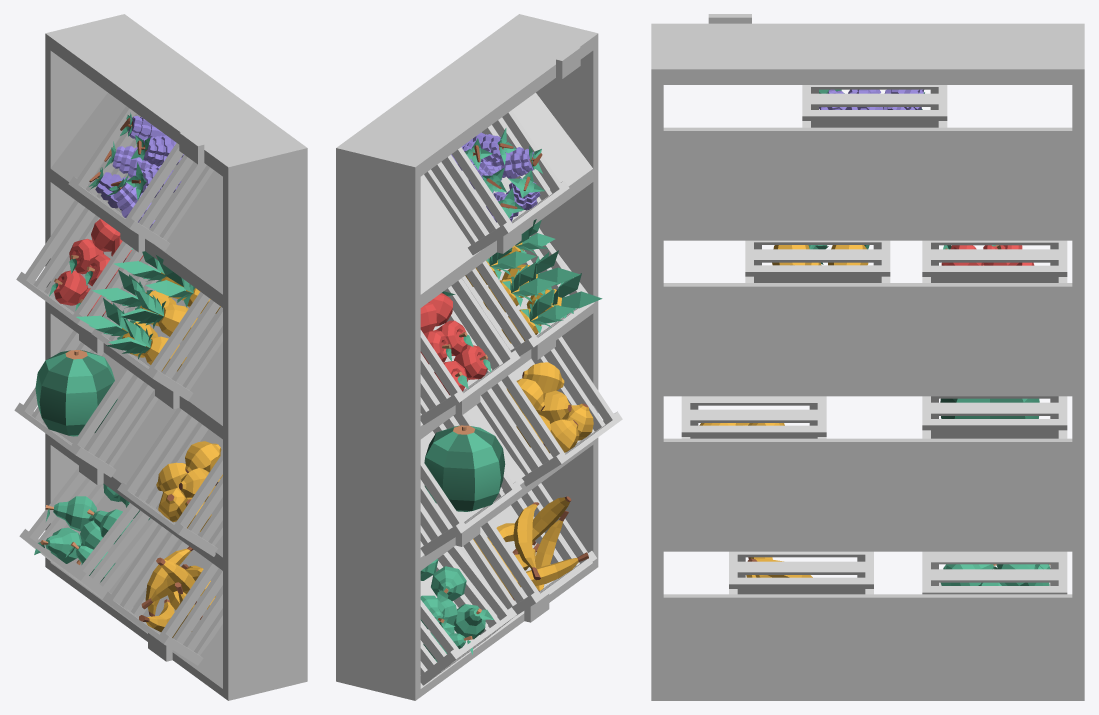
The model's file is Shelf_Obst.fbx.
3 views of the same model, side by side, from view 1: azimuth 30°, elevation 25°; view 2: azimuth 150°, elevation 25°; view 3: azimuth 270°, elevation 25° (orthographic). The views are drawn at different scales.
Parts seen in each view (by area): view 1: Box002, Box019, Box029, pineapple006, Box030, Box024, Box017, Box028, Box027, Box025, grapes006, pear004 (+11 smaller); view 2: Box002, Box024, Box030, Box029, Box019, pineapple006, Box025, Box017, Box027, grapes006, banana015, lemon003 (+10 smaller); view 3: Box002, Box020, Box021, Box026, Box029, Box019, Box024, Box025, Box017, Box028, Box030, Box027 (+4 smaller).
Boxes of the visible parts, box(x1,y1,x2,y2) form: Box002: box(45, 14, 307, 700); Box019: box(102, 524, 222, 665); Box029: box(51, 93, 222, 294); pineapple006: box(76, 251, 220, 371); Box030: box(68, 106, 213, 250); Box024: box(117, 408, 222, 556); Box017: box(19, 467, 158, 599); Box028: box(14, 330, 158, 477); Box027: box(91, 261, 222, 400); Box025: box(16, 200, 155, 332); grapes006: box(89, 112, 183, 227); pear004: box(34, 483, 150, 582); Box002: box(336, 14, 598, 700); Box024: box(477, 336, 622, 486); Box030: box(424, 110, 569, 255); Box029: box(420, 92, 592, 294); Box019: box(459, 483, 596, 617); pineapple006: box(465, 219, 602, 343); Box025: box(420, 278, 520, 424); Box017: box(420, 545, 516, 685); Box027: box(451, 228, 594, 358); grapes006: box(451, 128, 544, 222); banana015: box(473, 496, 588, 600); lemon003: box(506, 362, 593, 453); Box002: box(651, 23, 1084, 700); Box020: box(663, 594, 1072, 691); Box021: box(663, 438, 1072, 535); Box026: box(663, 283, 1072, 380); Box029: box(663, 127, 1072, 224); Box019: box(729, 551, 873, 594); Box024: box(681, 396, 826, 438); Box025: box(922, 240, 1067, 282); Box017: box(922, 551, 1067, 594); Box028: box(922, 396, 1067, 438); Box030: box(802, 85, 947, 127); Box027: box(745, 240, 890, 282).
Bounding box in the file's own units: 45.11 × 162 × 100.
